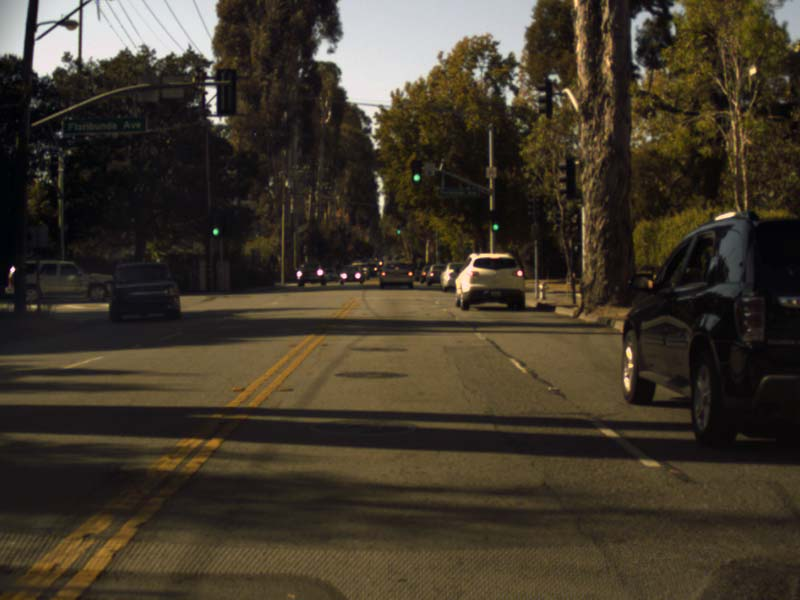Green: (411, 159, 421, 183), (211, 213, 220, 237), (490, 211, 500, 230), (396, 224, 400, 233)
